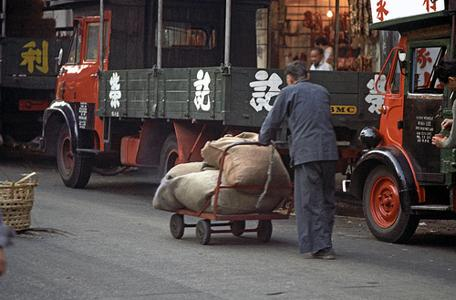person: (259, 61, 338, 262)
